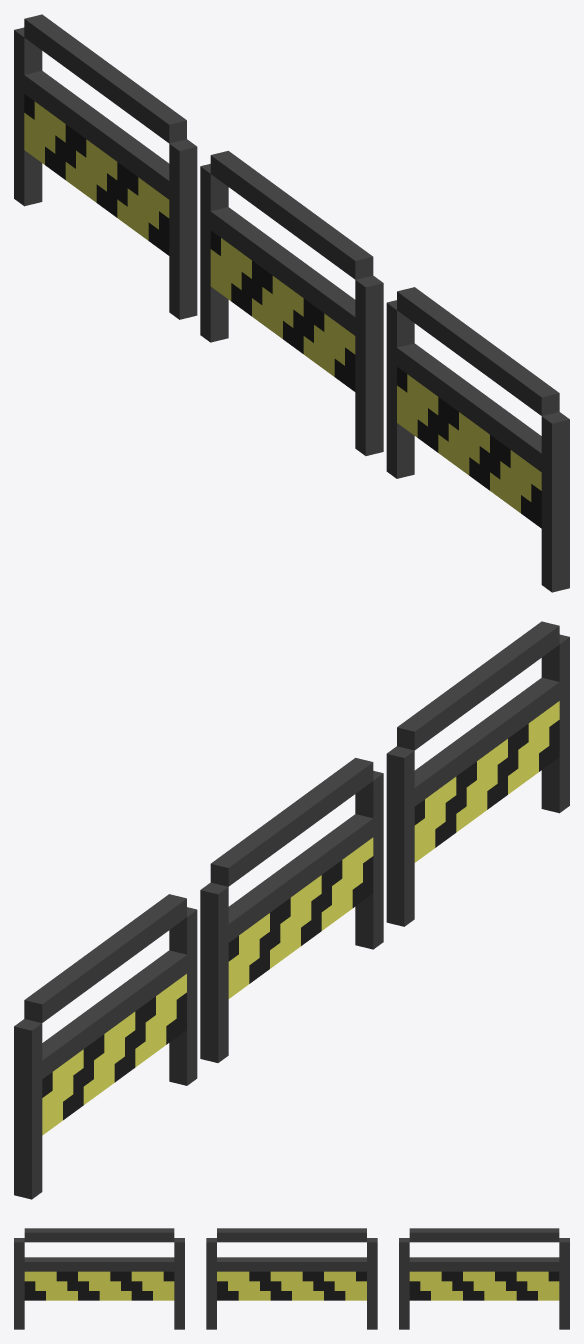
The model's file is smallFence.glb.
The picture shows the model from 3 angles, top to bottom: view 1: azimuth 30°, elevation 25°; view 2: azimuth 150°, elevation 25°; view 3: azimuth 270°, elevation 25°; orthographic projection. The views are drawn at different scales.
Parts seen in each view (by area): view 1: ObjObject; view 2: ObjObject; view 3: ObjObject.
Part boxes in pixels (x1=…): ObjObject: x1=14, y1=14, x2=569, y2=592; ObjObject: x1=14, y1=621, x2=569, y2=1199; ObjObject: x1=14, y1=1228, x2=569, y2=1329.
Bounding box in the file's own units: 0.1 × 1 × 5.2.
1 material, 1 textured.
